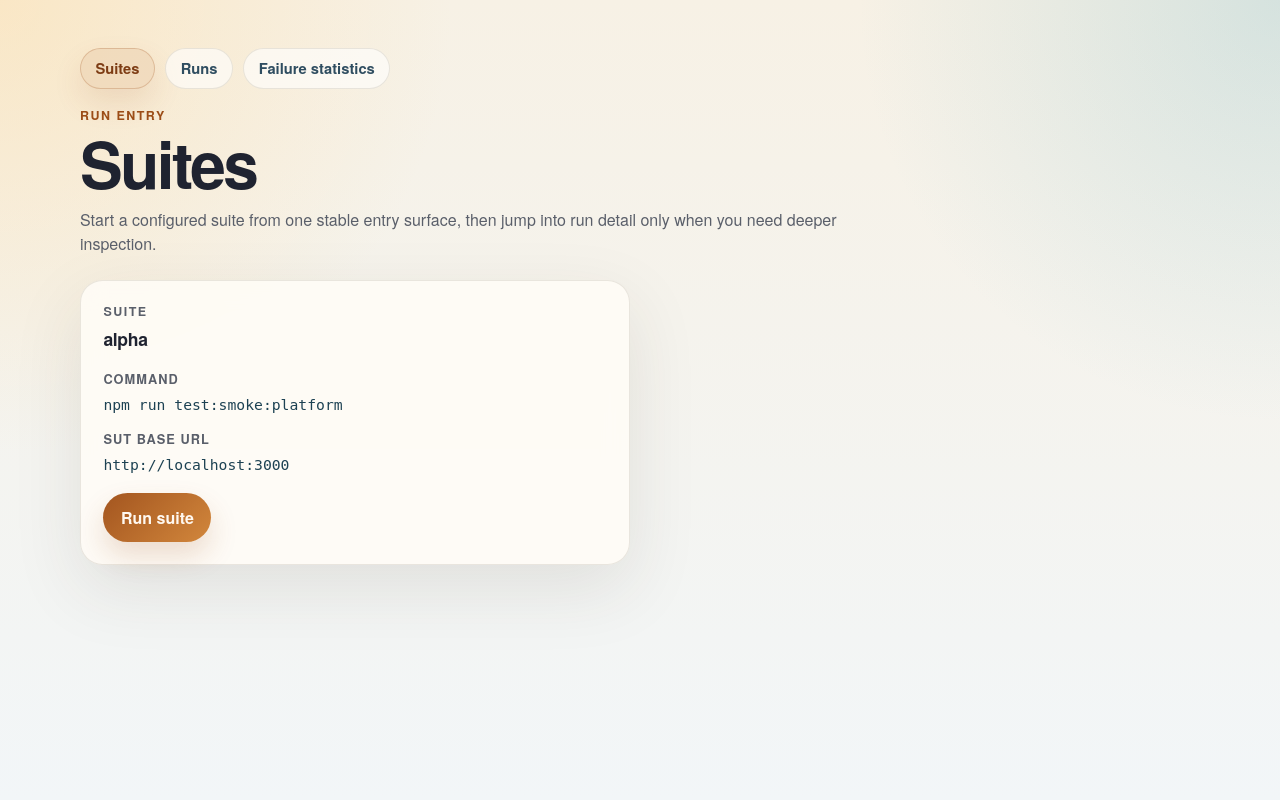
it: shows success feedback with a run-detail link and stays on /suites
Expected: the text "alpha" is shown, x1=103 y1=326 x2=148 y2=350
Click the button "Run suite": (157, 518) x1=103 y1=493 x2=211 y2=542
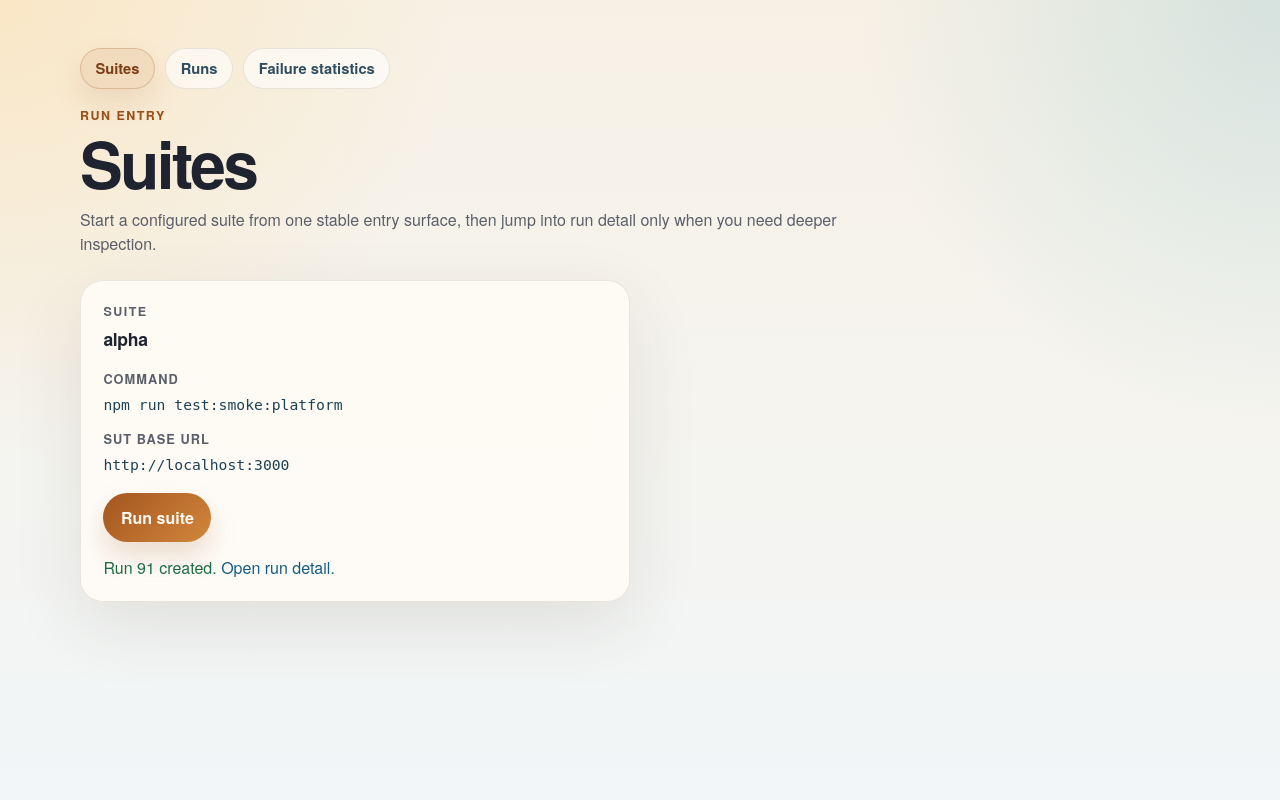
Result: the text "Run 91 created. Open run detail ." is shown at x1=103 y1=556 x2=335 y2=579
